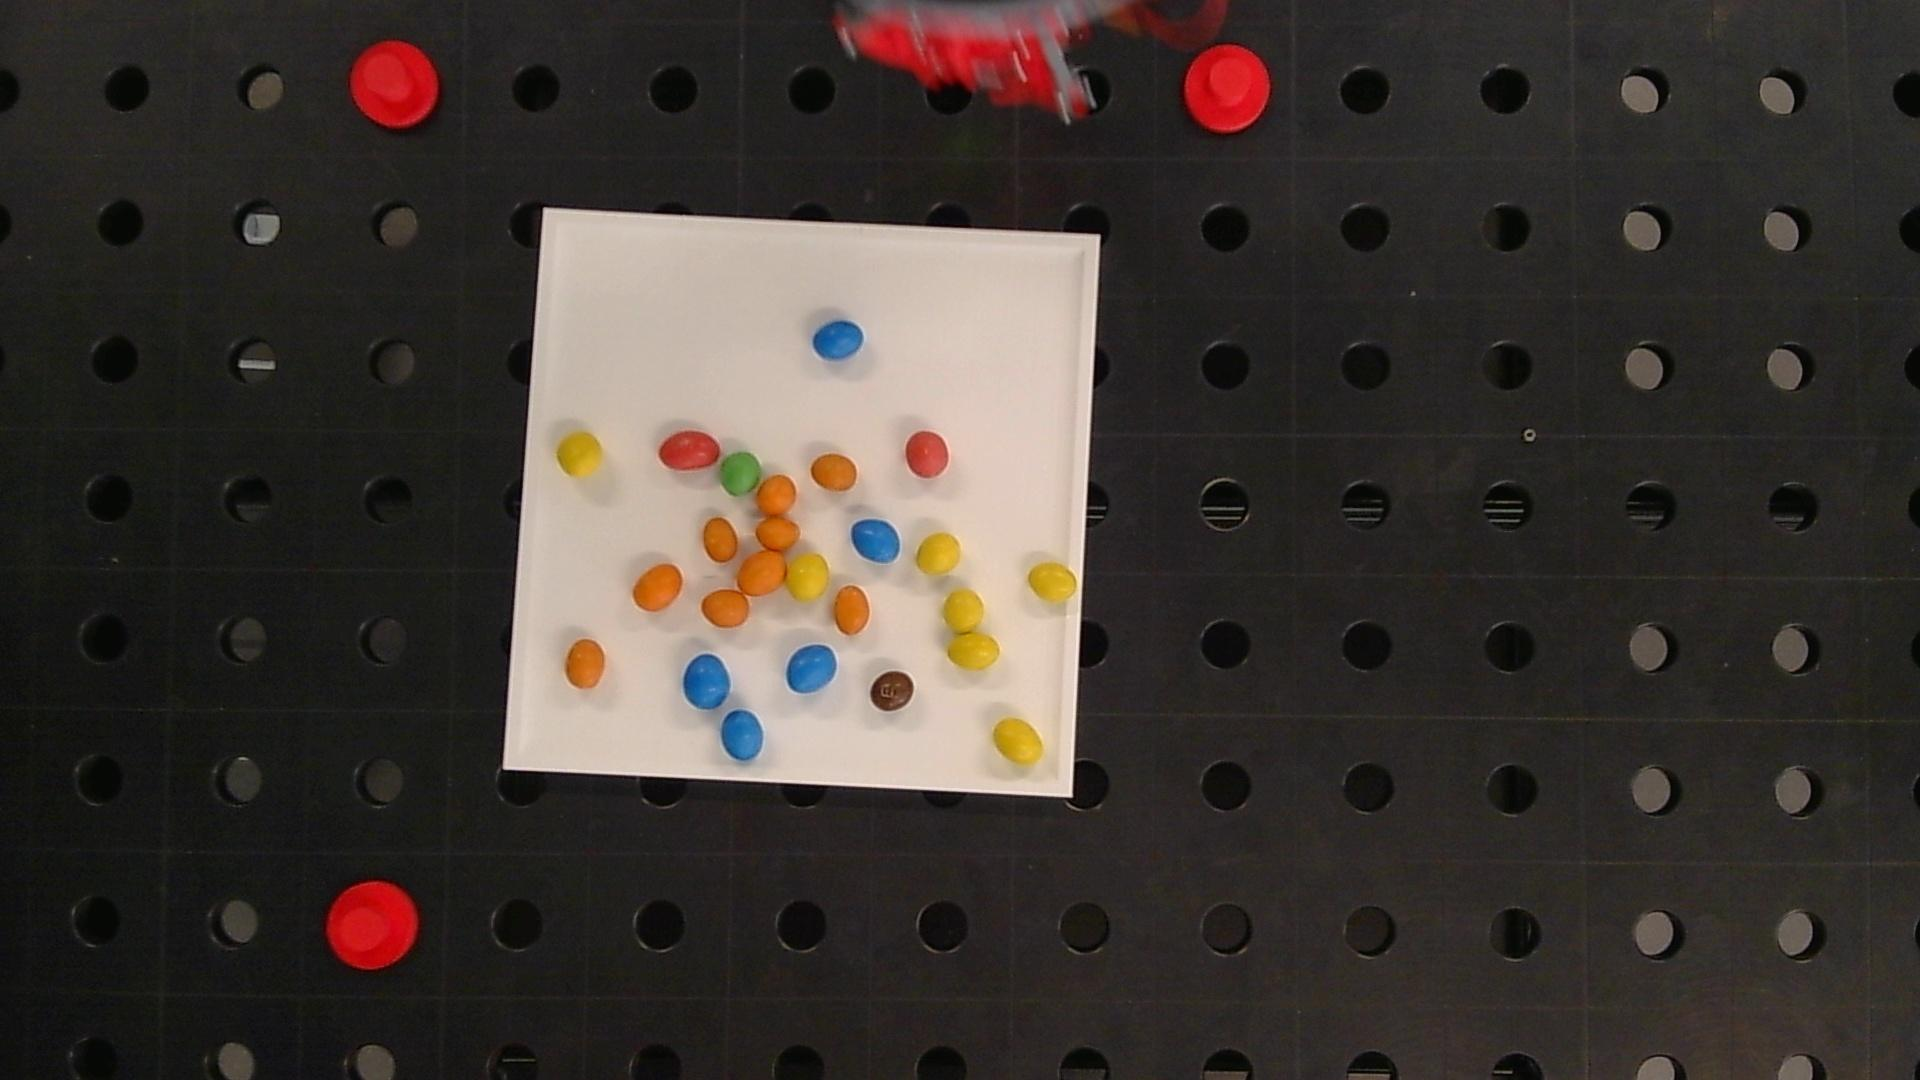blue: (683, 654, 731, 709), (786, 645, 837, 694), (852, 518, 901, 563), (721, 711, 764, 761), (812, 320, 864, 361)
brown: (870, 670, 915, 712)
green: (720, 452, 761, 495)
orange: (632, 563, 683, 611), (737, 551, 787, 596), (566, 638, 604, 688), (702, 589, 749, 628), (811, 452, 857, 491), (835, 585, 869, 634), (757, 475, 796, 516), (703, 517, 738, 562), (757, 518, 799, 550)
red: (658, 430, 720, 469), (905, 430, 949, 477)
yellow: (993, 717, 1044, 765), (556, 431, 604, 477), (787, 554, 829, 600), (948, 634, 1001, 671), (1027, 563, 1077, 601), (916, 533, 961, 575), (943, 589, 985, 633)
